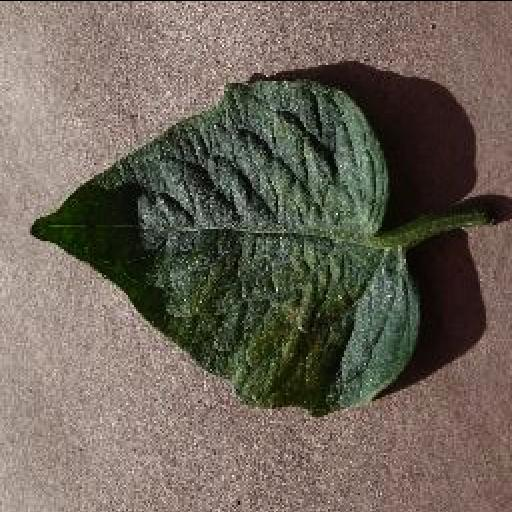disease_tomato: (28, 76, 422, 418)
